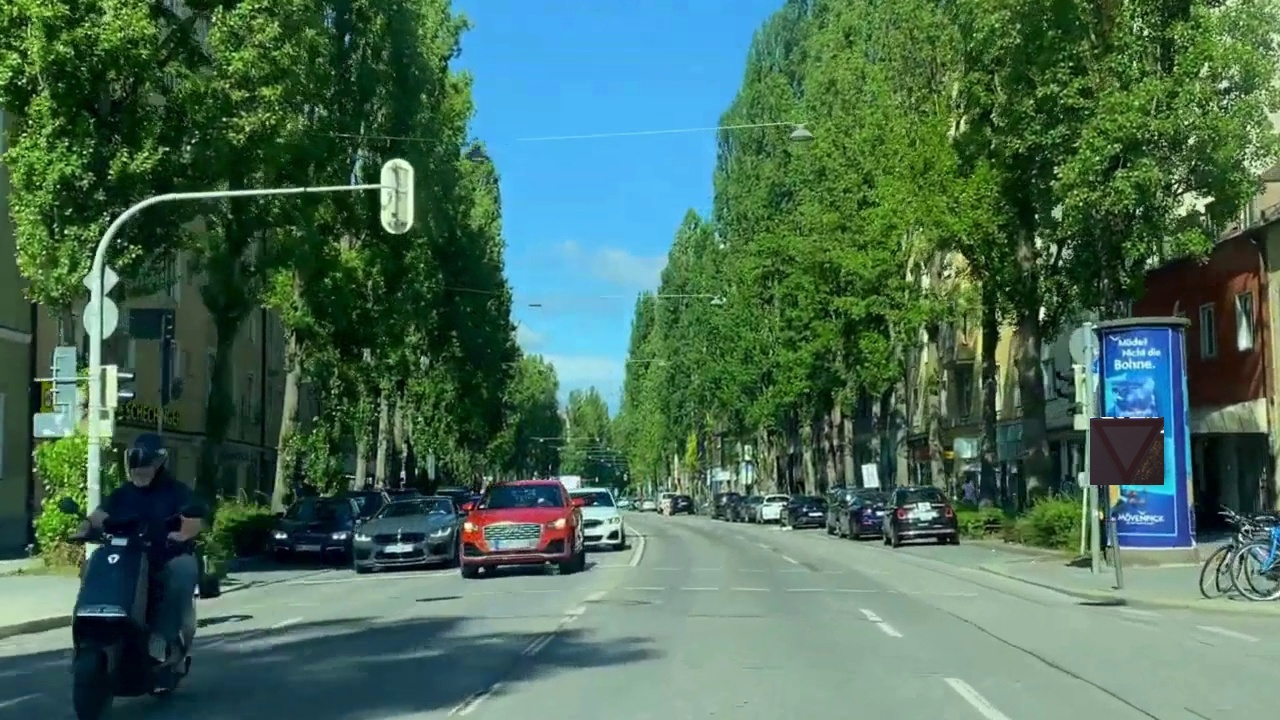Yield: (1090, 417, 1164, 485)
